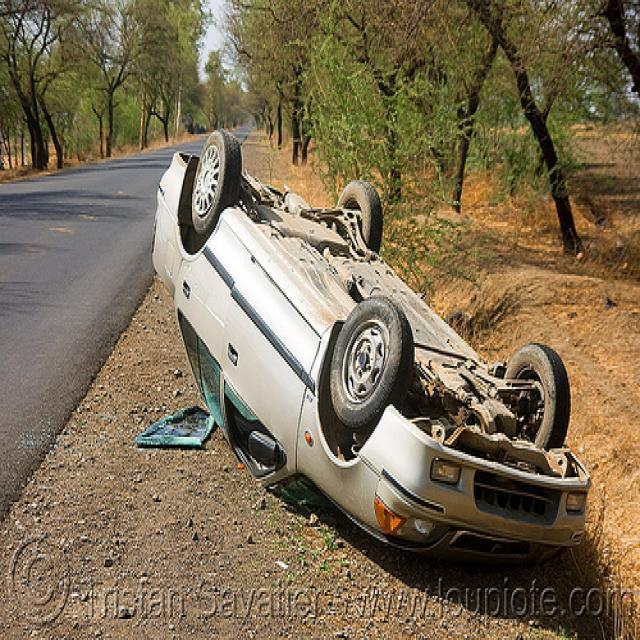accident: (132, 123, 600, 582)
